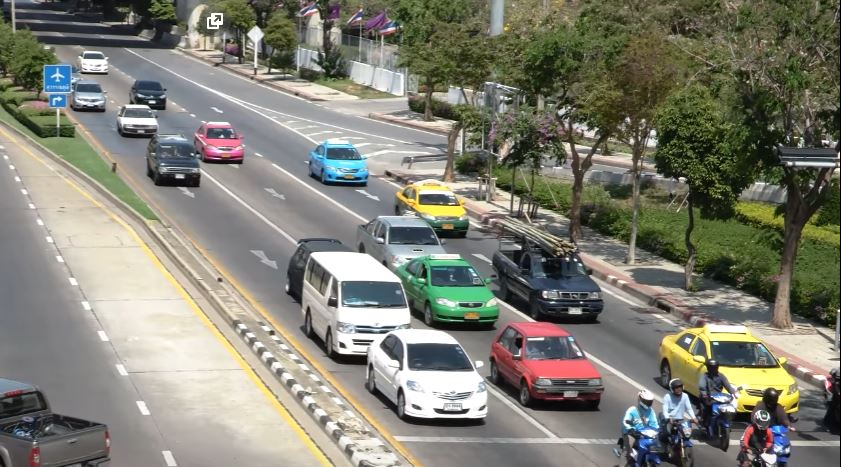Bus: (301, 251, 412, 355)
Car: (657, 325, 799, 413), (363, 327, 489, 426), (491, 213, 605, 321), (489, 321, 605, 410), (396, 253, 499, 325), (354, 215, 449, 270), (394, 180, 470, 235), (144, 133, 201, 183), (308, 139, 370, 184), (194, 121, 244, 161), (116, 103, 159, 136), (70, 80, 106, 110), (129, 79, 166, 108), (78, 50, 109, 74)
Motorcycle: (695, 359, 740, 449), (616, 390, 668, 466), (655, 378, 698, 467), (751, 387, 791, 464), (734, 411, 778, 467)
